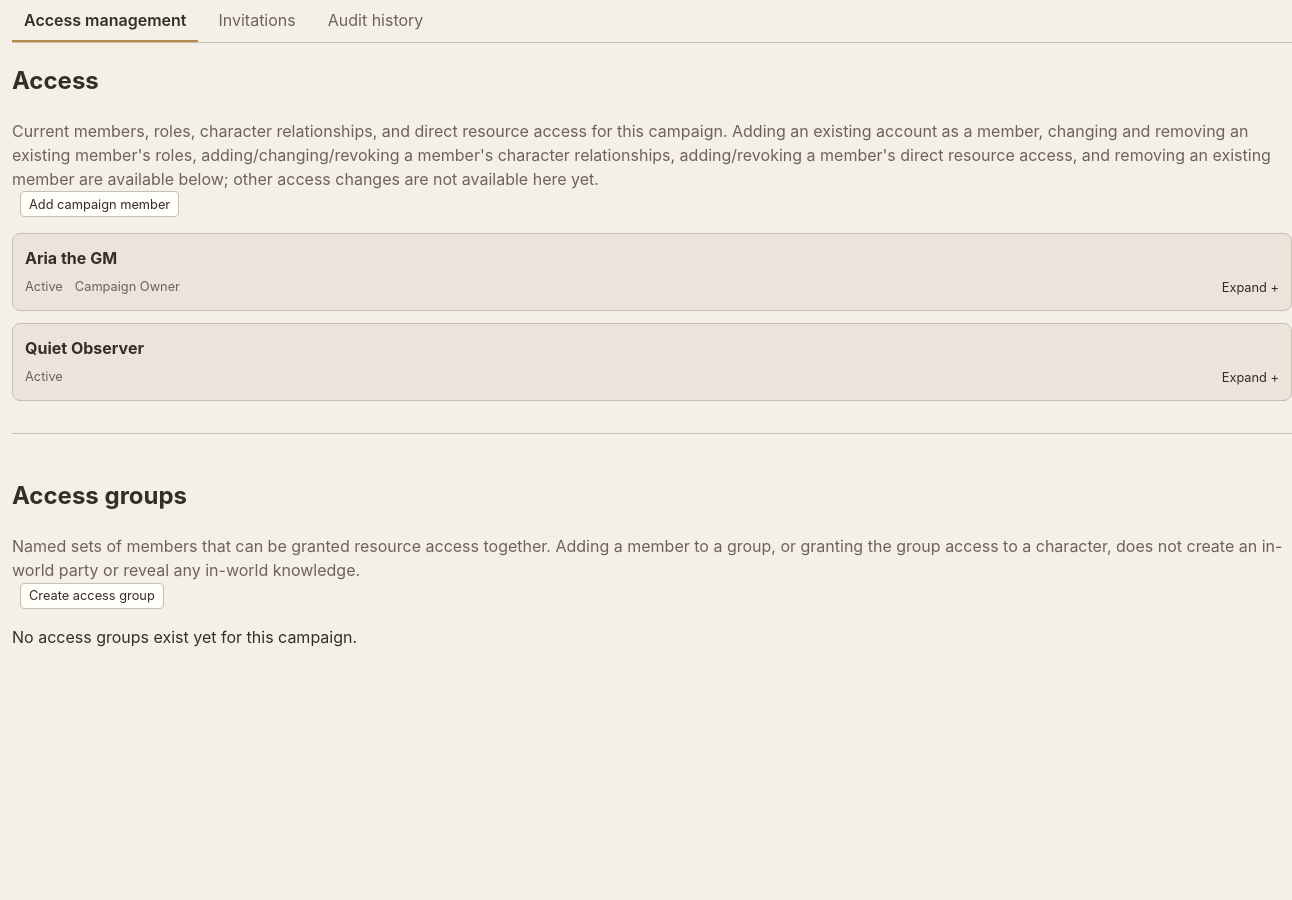
Test: CampaignAccessPage add-member flow › shows a clear empty state for no eligible account, and Cancel discards the in-progress selection without any mutation
Check: the heading "Access" is shown, box [12,66,99,95]
Click the button "Add campaign member" at x=100, y=204, box [20,191,179,217]
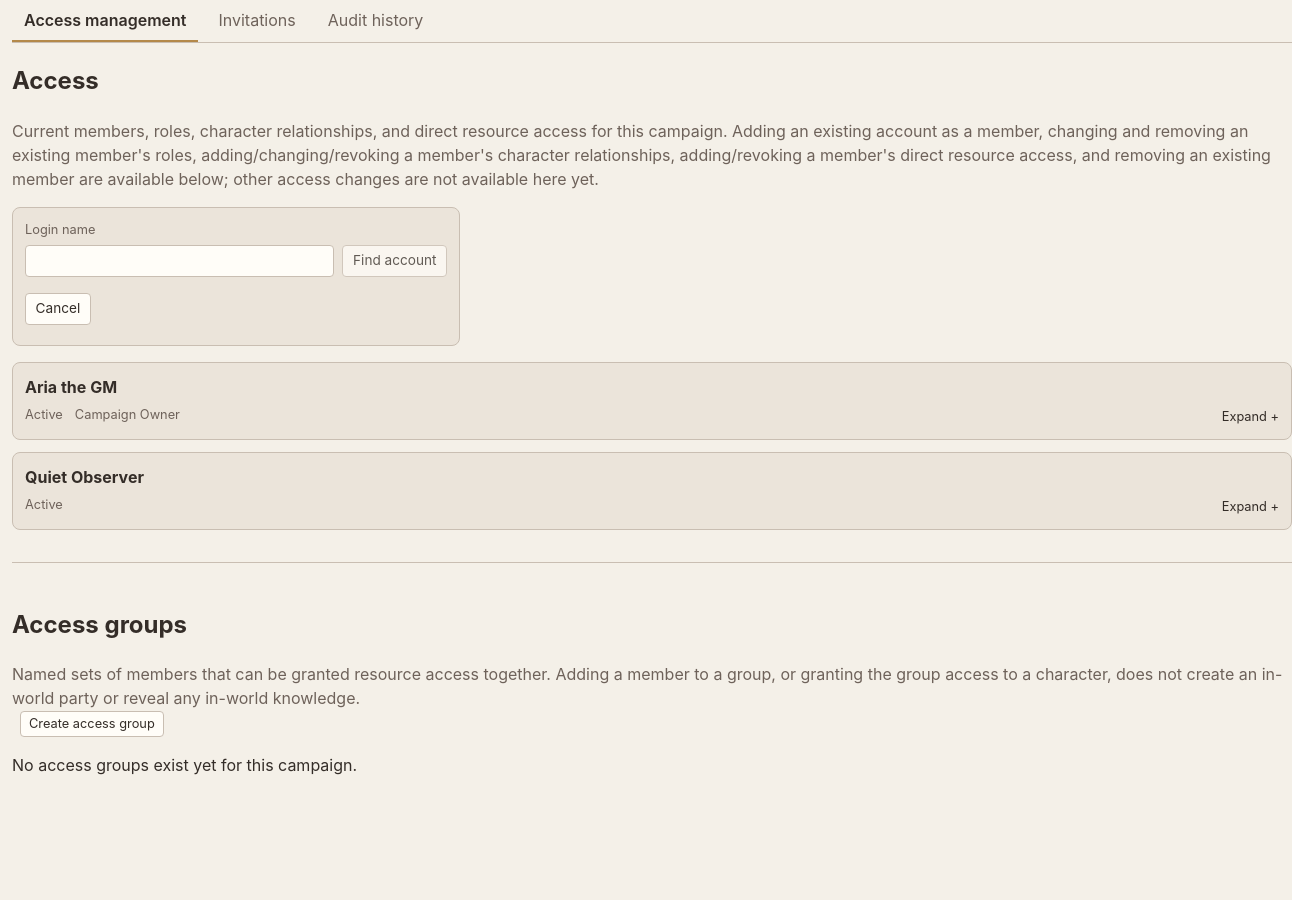
Type "nonexistent" into the field labelled "Login name" at x=180, y=261, box [25,245,334,277]
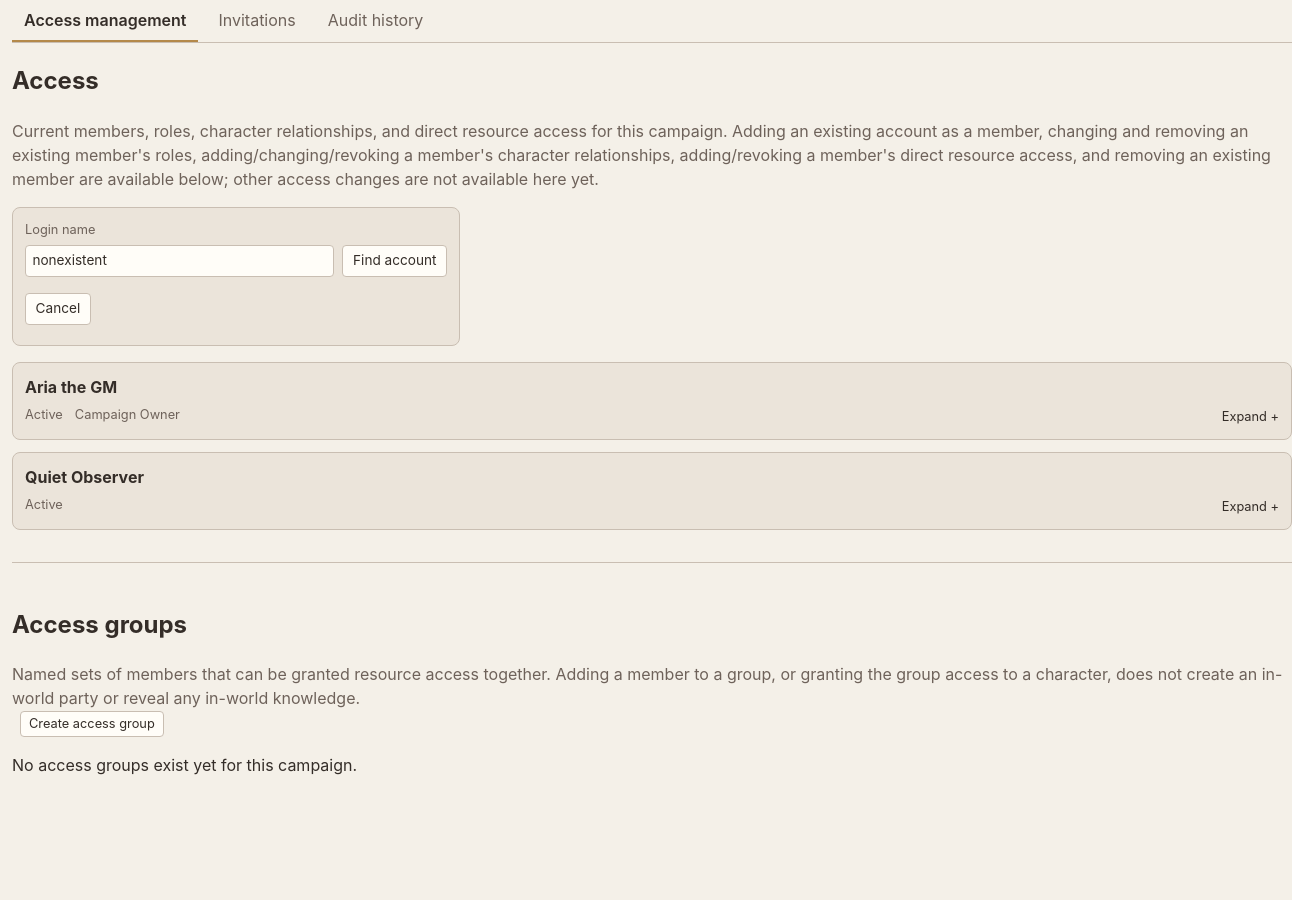
Click the button "Find account" at x=395, y=261, box [342,245,447,277]
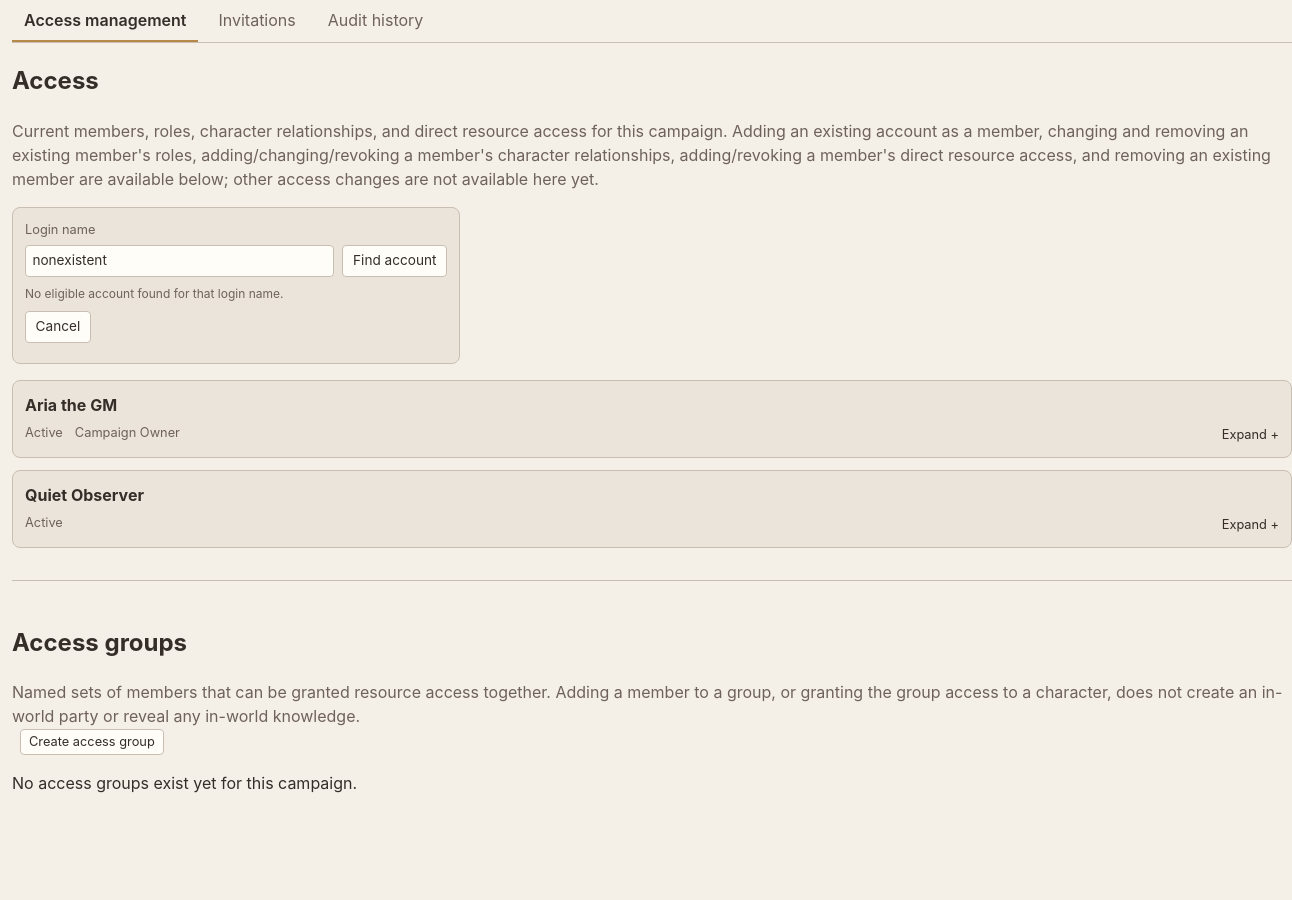
Check: the text "No eligible account found for that login name." is shown, box [25,286,284,301]
Click the button "Cancel" at x=58, y=327, box [25,311,91,343]
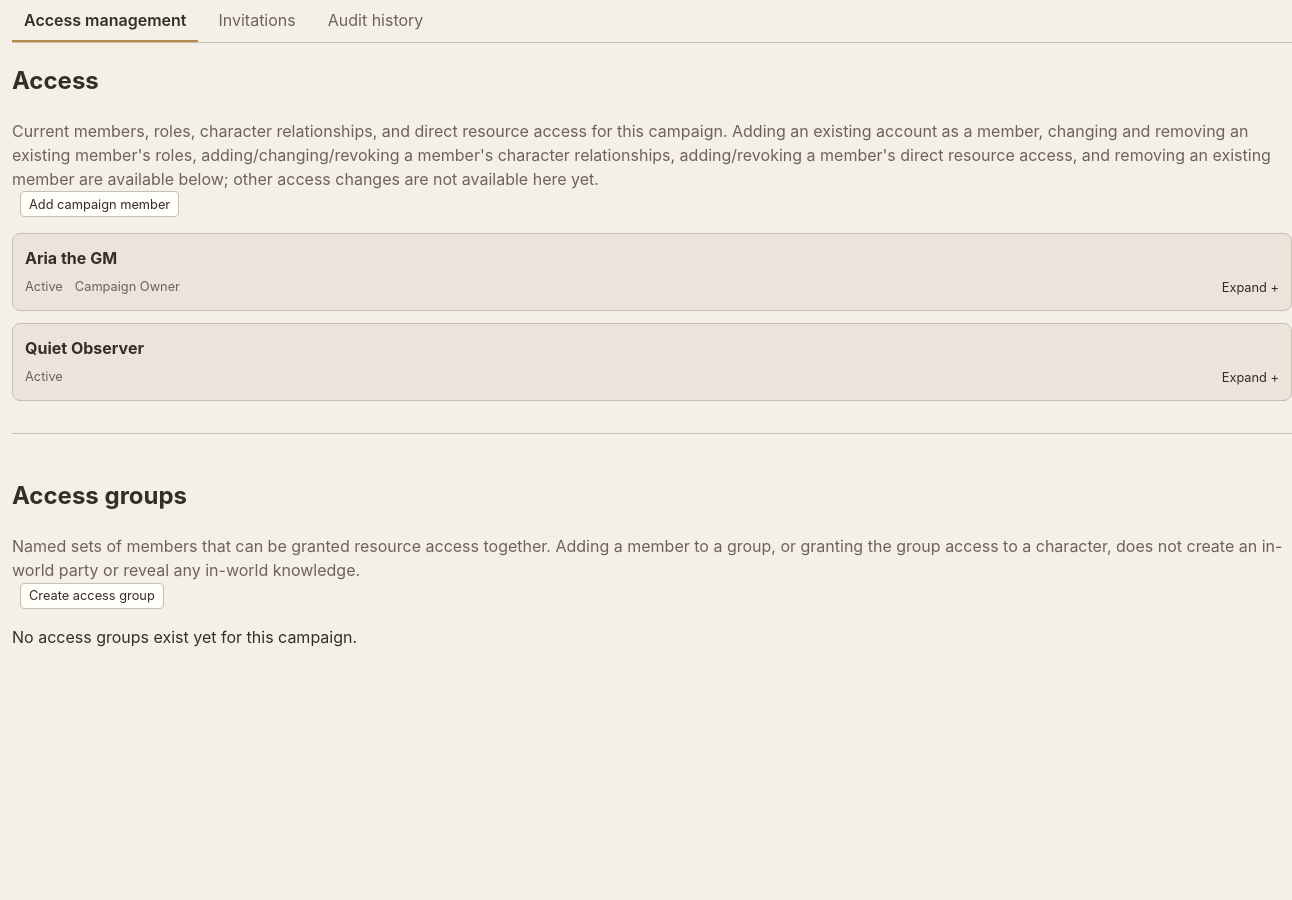
Check: the label labelled "Login name" is gone
